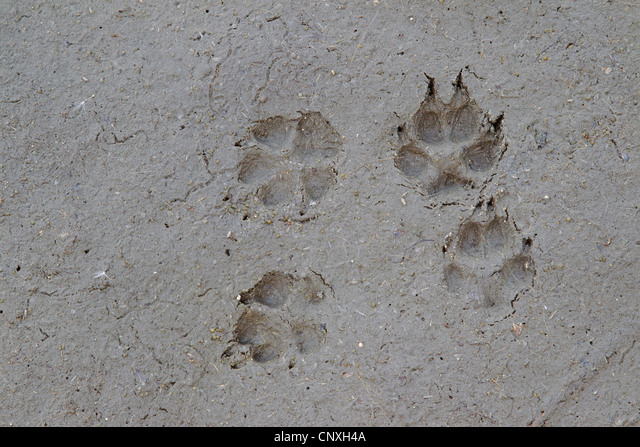fox: (399, 84, 506, 195), (238, 111, 348, 209), (434, 216, 538, 311), (237, 269, 332, 361)
